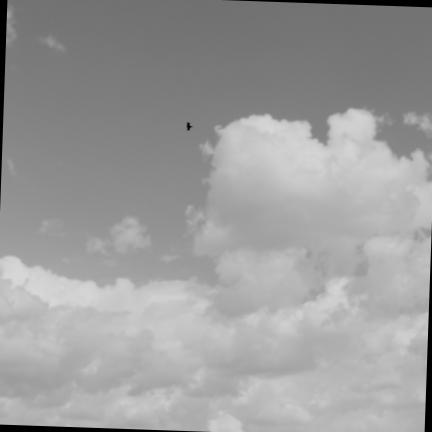Shahed: (185, 121, 194, 132)
